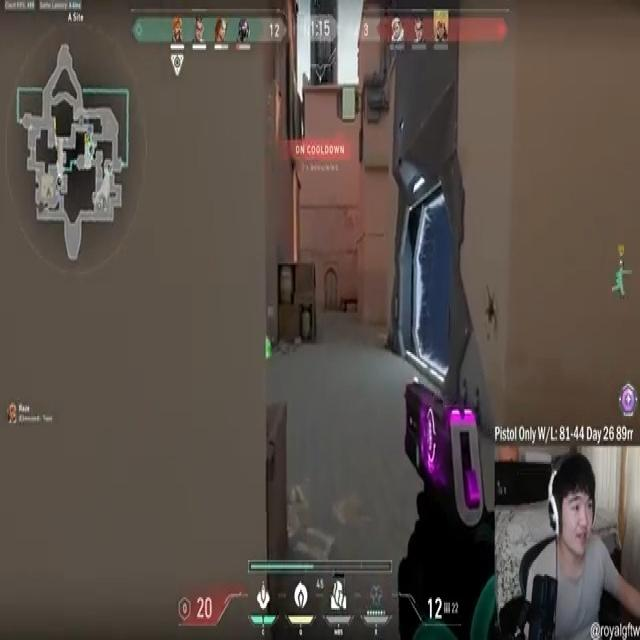ally behind wall: (609, 261, 635, 303)
